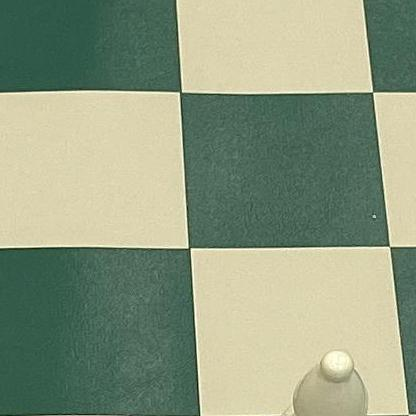white-bishop: (250, 348, 377, 416)
